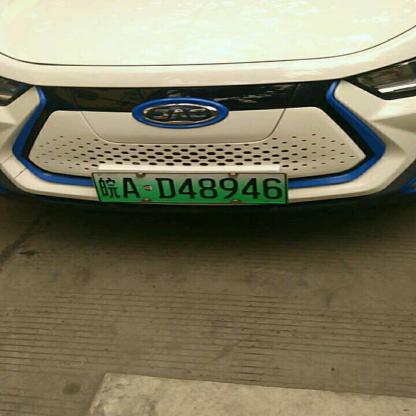lp: (90, 172, 287, 204)
